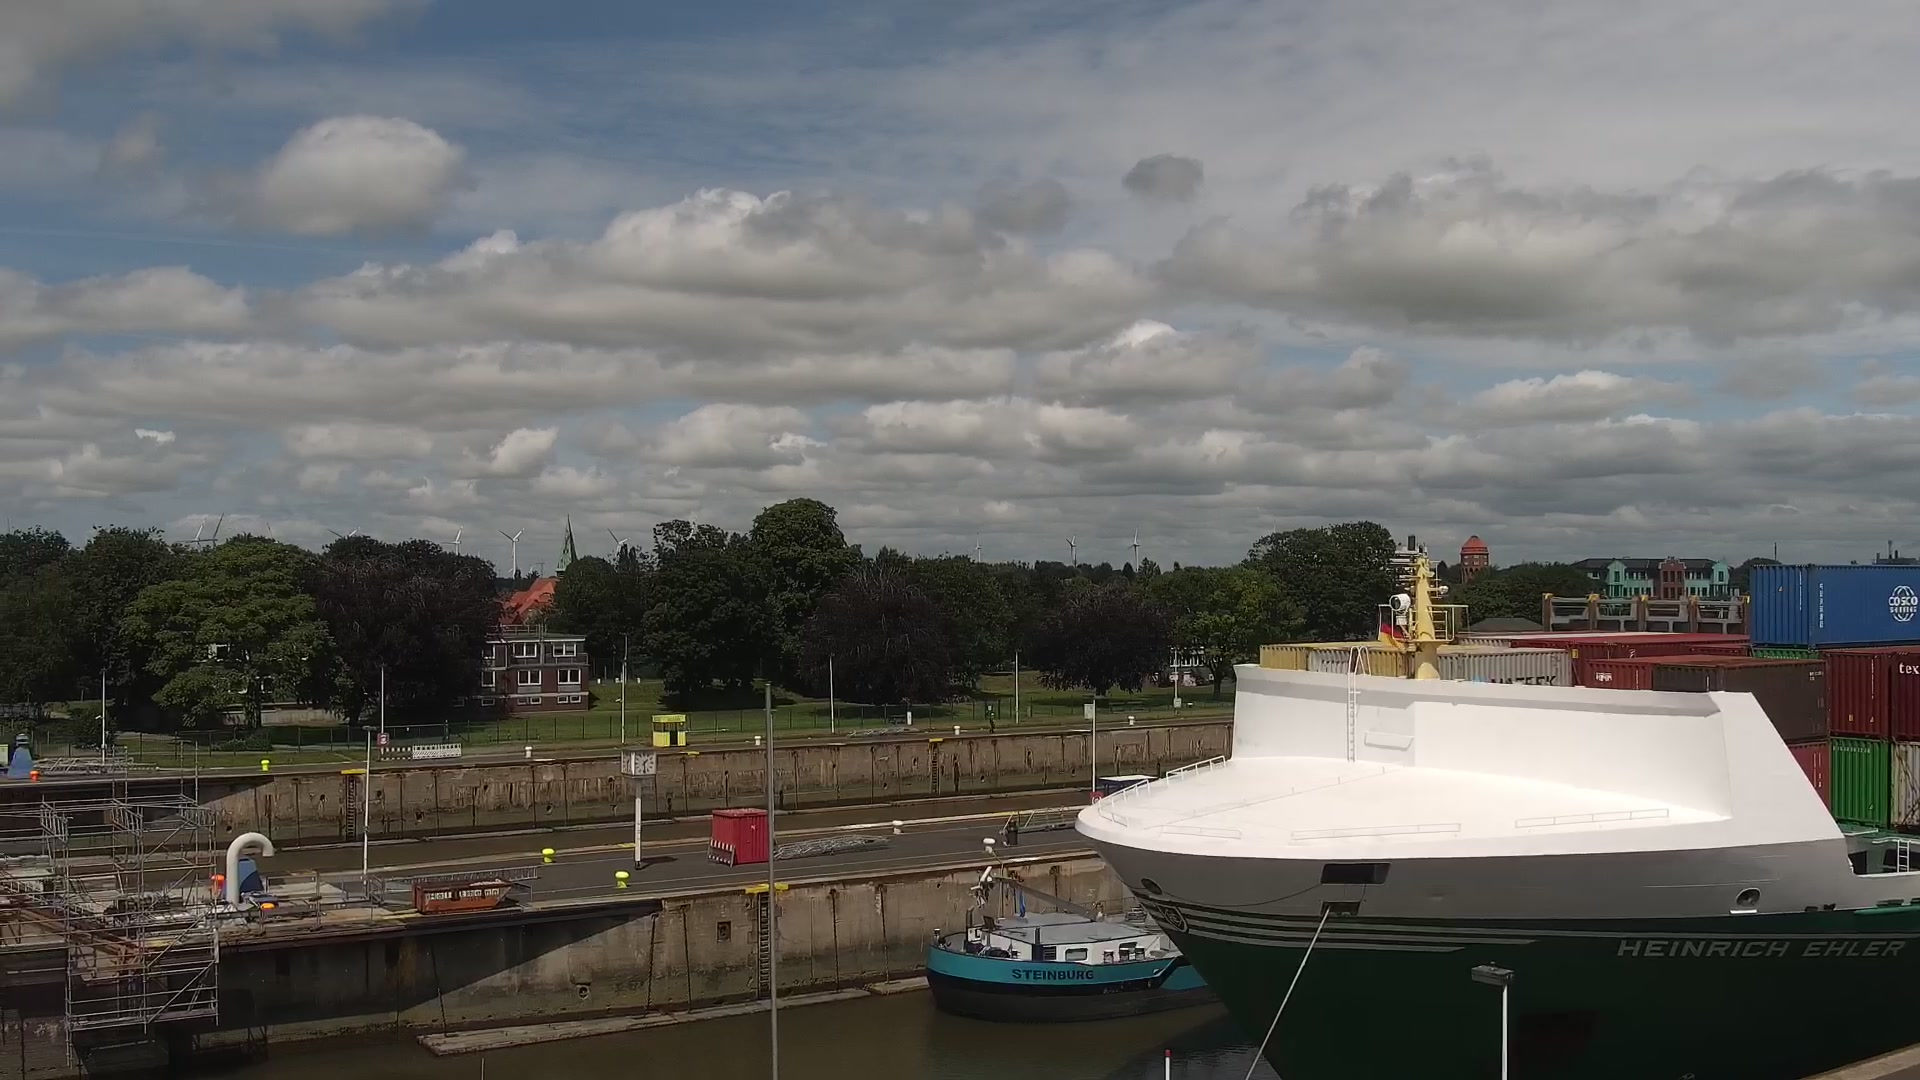human: (988, 711, 996, 735)
sea: (1074, 550, 1919, 1080), (922, 836, 1224, 1022)
